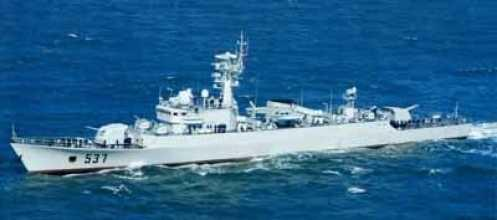warship: (8, 30, 481, 171)
